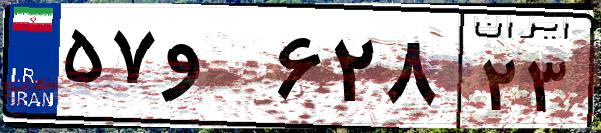2: (330, 28, 385, 110), (475, 38, 525, 113)
3: (525, 38, 570, 115)
5: (57, 26, 110, 100)
6: (270, 28, 330, 110)
7: (110, 28, 158, 98)
8: (385, 28, 445, 110)
و: (158, 20, 270, 120)
